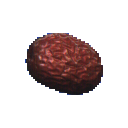gd: (23, 19, 121, 108)
